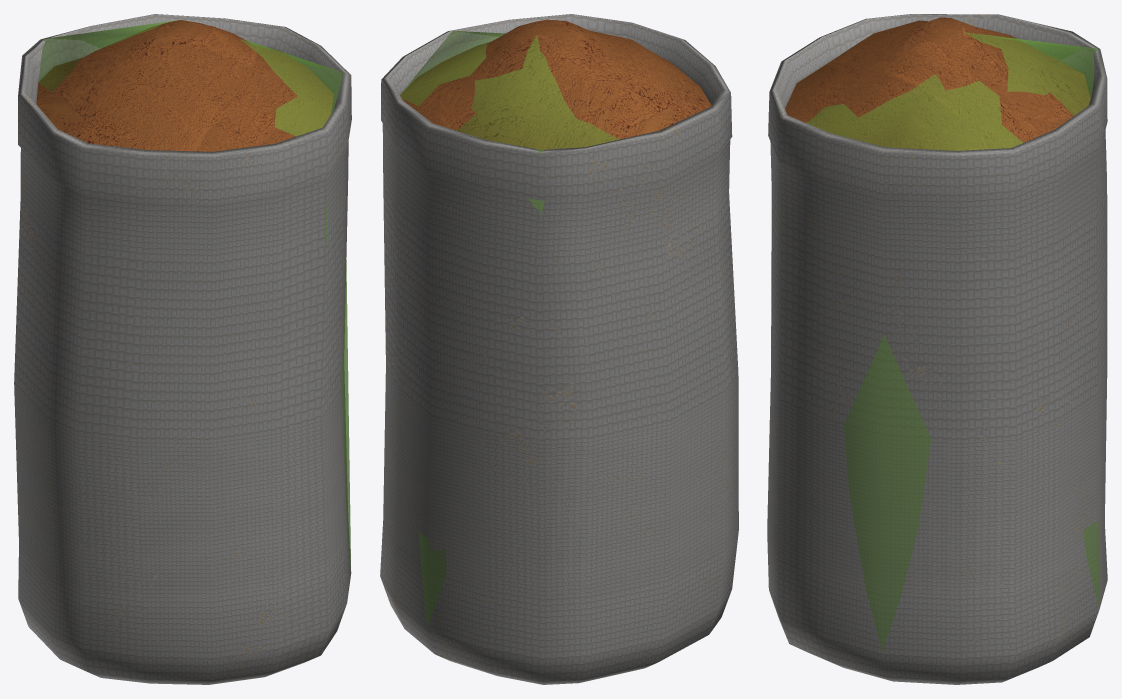
Rendered from pg_spices_bag_03.fbx.
3 views of the same model, side by side, from view 1: azimuth 30°, elevation 25°; view 2: azimuth 150°, elevation 25°; view 3: azimuth 270°, elevation 25° (orthographic).
Visible parts, largest first — view 1: p_spices_bag_03_a_LOD0, p_spices_bag_03_a_col; view 2: p_spices_bag_03_a_LOD0, p_spices_bag_03_a_col; view 3: p_spices_bag_03_a_LOD0, p_spices_bag_03_a_col.
Part boxes in pixels (x1,y1,x2,y2): p_spices_bag_03_a_LOD0: (14,14,351,684); p_spices_bag_03_a_col: (38,20,351,572); p_spices_bag_03_a_LOD0: (380,14,738,684); p_spices_bag_03_a_col: (400,31,618,627); p_spices_bag_03_a_LOD0: (767,14,1107,684); p_spices_bag_03_a_col: (781,32,1099,651).
Size of what is drawn, in the model's own units: 23.83 by 45.96 by 23.44.
